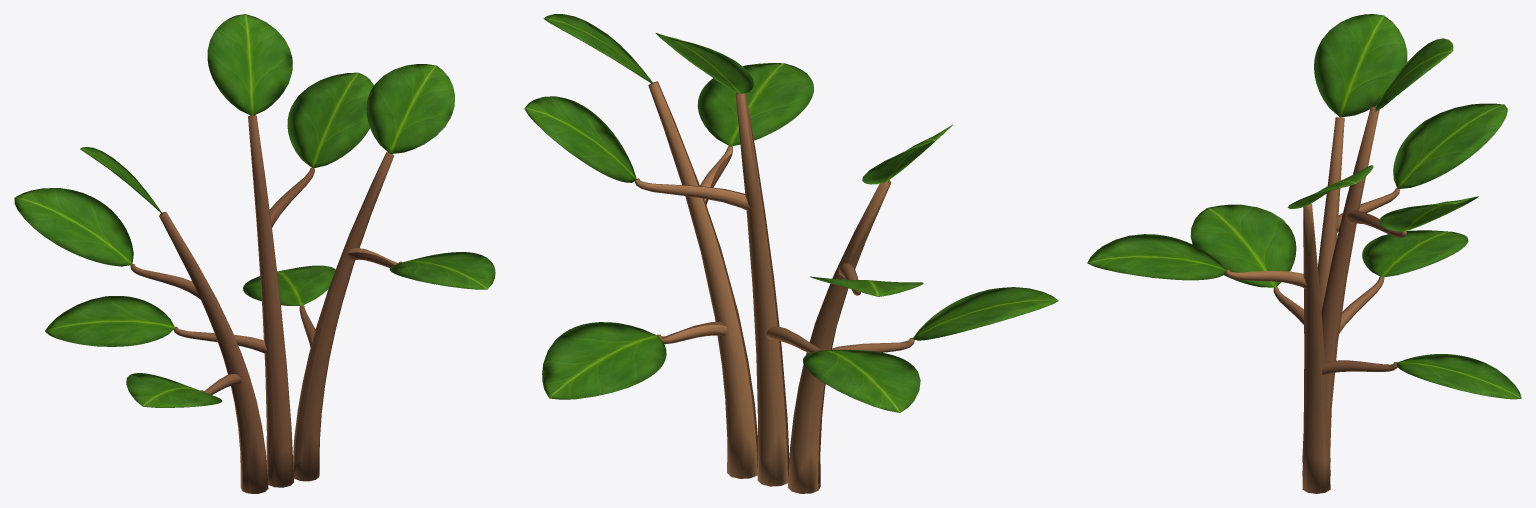
Rendered from NP_Blueberry_Young_LOD1.fbx.
3 views of the same model, side by side, from view 1: azimuth 30°, elevation 25°; view 2: azimuth 150°, elevation 25°; view 3: azimuth 270°, elevation 25° (orthographic). The views are drawn at different scales.
Visible parts, largest first — view 1: NP_Blueberry_Young; view 2: NP_Blueberry_Young; view 3: NP_Blueberry_Young.
Boxes of the visible parts, <box> form: NP_Blueberry_Young: <box>14,14,495,493</box>; NP_Blueberry_Young: <box>524,14,1058,493</box>; NP_Blueberry_Young: <box>1087,14,1521,493</box>.
Size of the model in its own units: 47.27 by 50.98 by 45.69.
